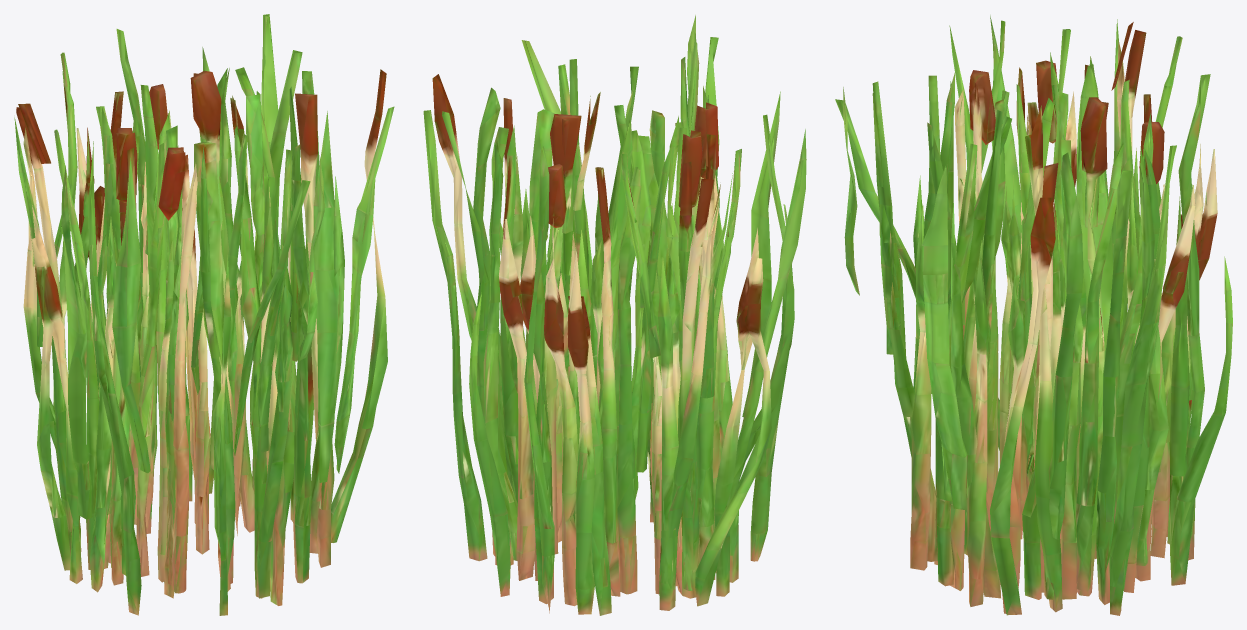
The model's file is reeds.glb.
The picture shows the model from 3 angles, left to right: view 1: azimuth 30°, elevation 25°; view 2: azimuth 150°, elevation 25°; view 3: azimuth 270°, elevation 25°; orthographic projection. The views are drawn at different scales.
Visible parts, largest first — view 1: 0; view 2: 0; view 3: 0.
Part boxes in pixels (bbox=[...]): 0: bbox=[14, 14, 394, 615]; 0: bbox=[423, 15, 806, 615]; 0: bbox=[835, 15, 1232, 615].
Bounding box in the file's own units: 1.15 × 1.51 × 1.12.
1 material, 1 textured.
